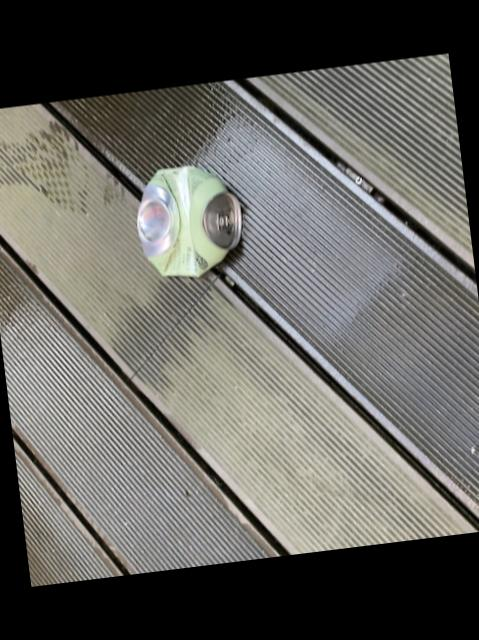metal: (135, 165, 239, 275)
